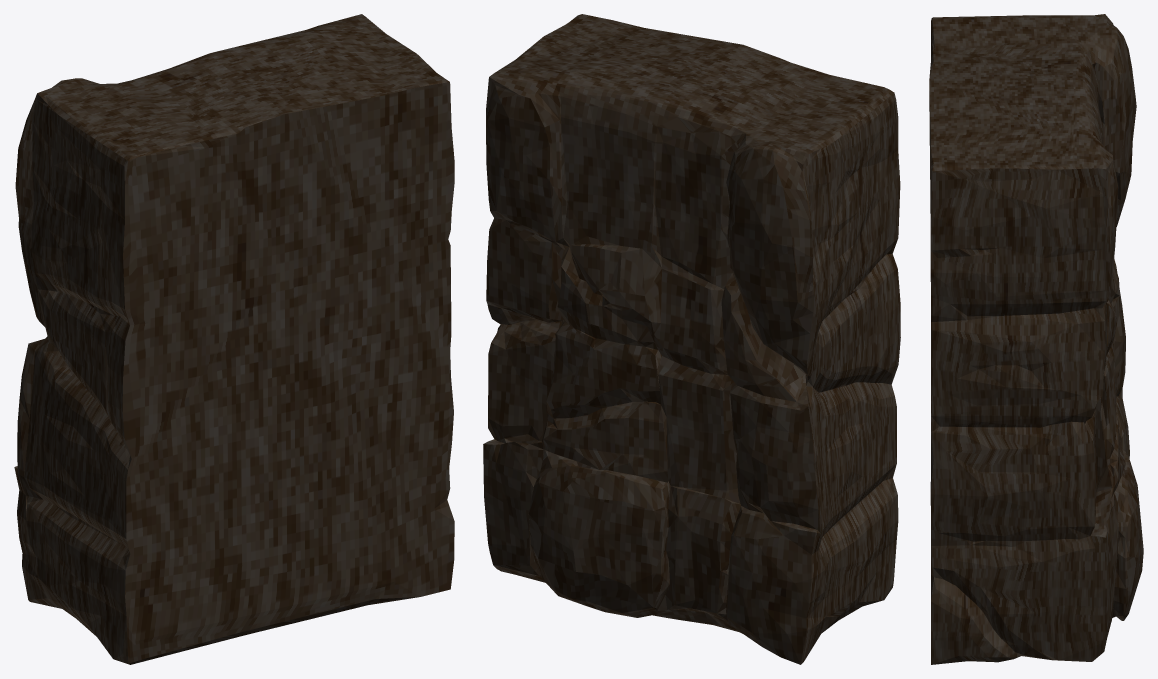
The model's file is cave-edge1.glb.
3 renders of one model, left to right at view 1: azimuth 30°, elevation 25°; view 2: azimuth 150°, elevation 25°; view 3: azimuth 270°, elevation 25°, orthographic. The views are drawn at different scales.
Parts seen in each view (by area): view 1: Cube.001; view 2: Cube.001; view 3: Cube.001.
Boxes of the visible parts, bbox=[...] form: Cube.001: bbox=[14, 14, 454, 664]; Cube.001: bbox=[483, 14, 900, 664]; Cube.001: bbox=[929, 14, 1143, 664].
Bounding box in the file's own units: 4.34 × 6.19 × 2.35.
Materials: 1 (1 with a texture image).
